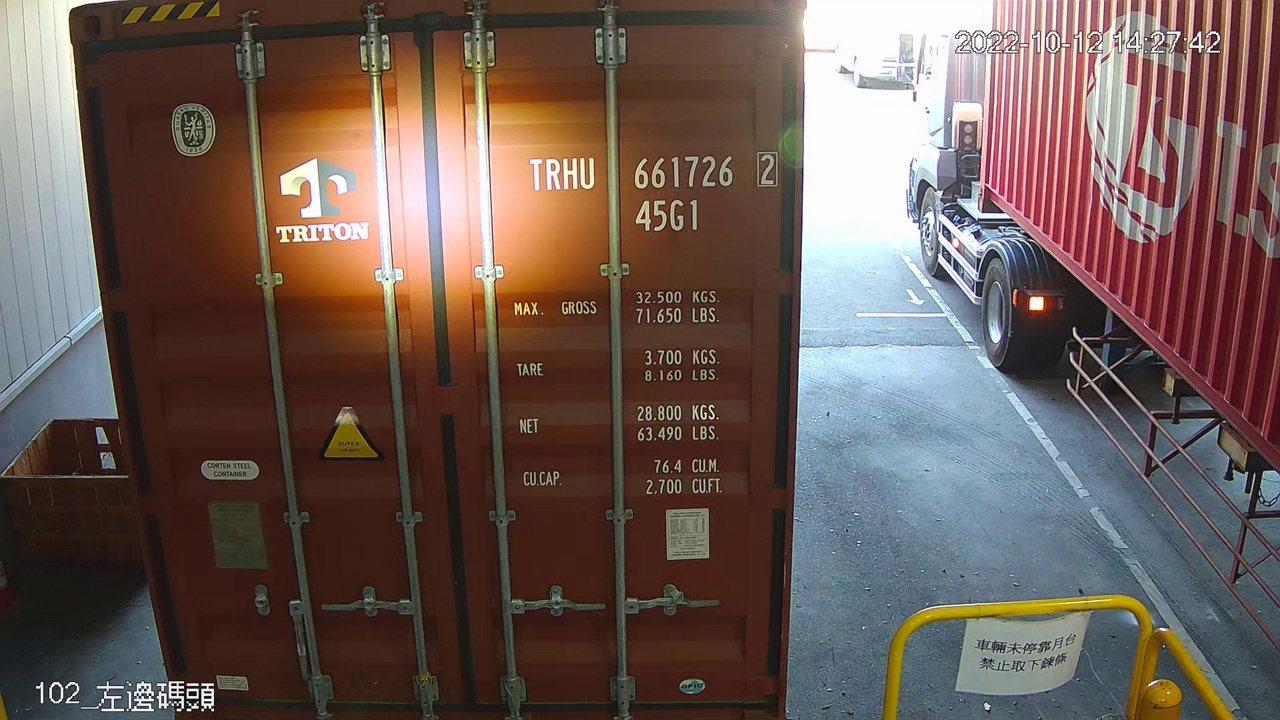container: (521, 144, 787, 241)
